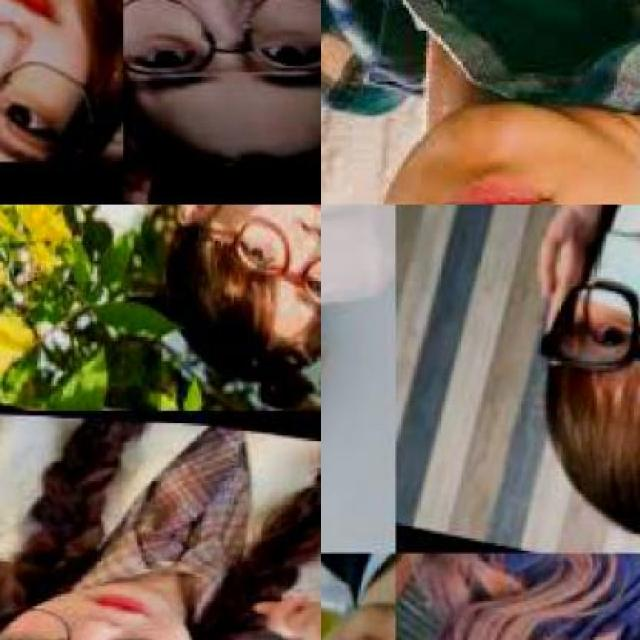glasses: (522, 262, 638, 403), (190, 205, 318, 320), (123, 0, 318, 72), (0, 68, 97, 160)
